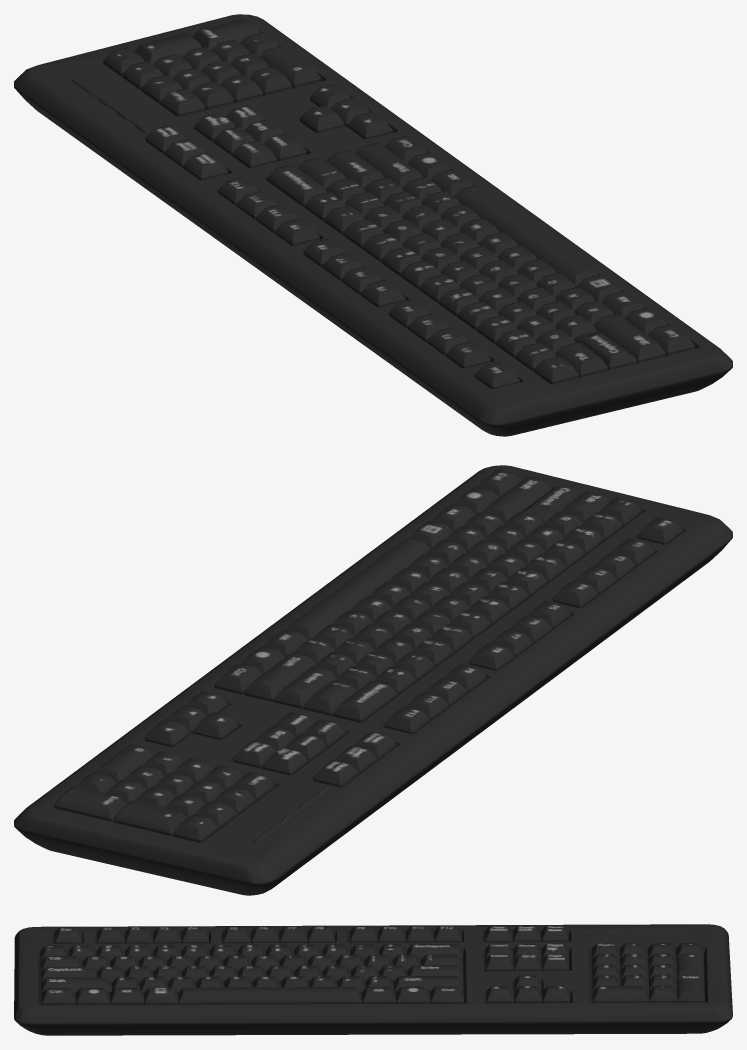
File: keyboard.obj
3 renders of one model, top to bottom at view 1: azimuth 30°, elevation 25°; view 2: azimuth 150°, elevation 25°; view 3: azimuth 270°, elevation 25°, orthographic. The views are drawn at different scales.
Visible parts, largest first — view 1: node_id5.008_mesh_id6.000; view 2: node_id5.008_mesh_id6.000; view 3: node_id5.008_mesh_id6.000.
Boxes of the visible parts, box(x1,y1,x2,y2) form: node_id5.008_mesh_id6.000: box(14, 14, 732, 436); node_id5.008_mesh_id6.000: box(14, 465, 732, 895); node_id5.008_mesh_id6.000: box(14, 924, 732, 1035).
Size of the model in its own units: 0.3684 by 0.0662 by 1.18.
